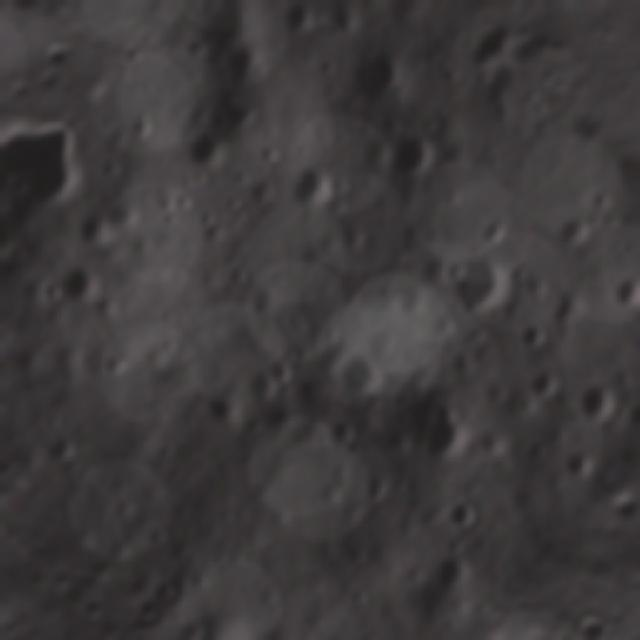crater: (425, 238, 520, 333), (396, 391, 484, 480), (443, 18, 522, 92), (369, 118, 445, 194), (337, 37, 412, 114), (319, 342, 390, 412), (292, 319, 359, 387), (417, 545, 483, 612), (172, 117, 237, 181), (190, 374, 253, 437), (272, 156, 334, 219), (568, 372, 629, 434), (47, 256, 107, 316), (545, 201, 603, 259), (28, 418, 86, 476), (536, 278, 593, 334), (553, 438, 609, 494), (267, 0, 325, 51), (230, 357, 284, 409), (355, 317, 407, 371), (316, 0, 370, 51), (518, 359, 570, 410), (438, 493, 488, 544), (113, 98, 164, 148), (507, 313, 556, 362), (256, 350, 302, 396), (76, 76, 119, 122), (603, 268, 640, 321), (141, 568, 184, 610), (432, 246, 474, 288), (0, 284, 17, 368), (579, 180, 616, 218), (178, 611, 208, 640), (260, 0, 308, 6), (637, 243, 640, 303)
